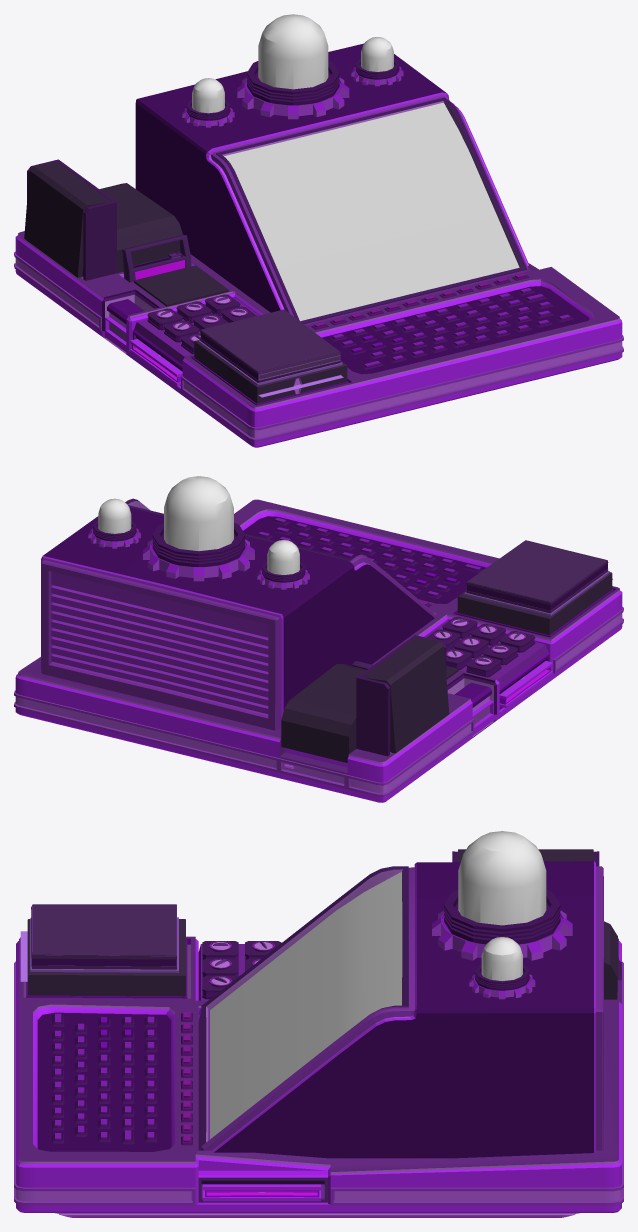
Rendered from mypc.fbx.
3 views of the same model, one above another, from view 1: azimuth 30°, elevation 25°; view 2: azimuth 150°, elevation 25°; view 3: azimuth 270°, elevation 25° (orthographic). The views are drawn at different scales.
Visible parts, largest first — view 1: vhs_0, vhs_cabine_door, disket_cabine, alternatif_conventer_door, vhs_0.010, vhs_right; view 2: vhs_0, vhs_cabine_door, disket_cabine, vhs_right; view 3: vhs_0, vhs_left, disket_cabine, vhs_cabine_door.
Part boxes in pixels (box(x1,y1,x2,y2)): vhs_0: box(14, 14, 623, 447); vhs_cabine_door: box(24, 161, 111, 277); disket_cabine: box(99, 183, 182, 273); alternatif_conventer_door: box(134, 265, 228, 306); vhs_0.010: box(122, 234, 191, 282); vhs_right: box(130, 339, 182, 385); vhs_0: box(14, 476, 623, 802); vhs_cabine_door: box(362, 637, 449, 753); disket_cabine: box(281, 663, 366, 762); vhs_right: box(499, 661, 552, 707); vhs_0: box(14, 831, 623, 1217); vhs_left: box(203, 1184, 320, 1201); disket_cabine: box(604, 921, 617, 999); vhs_cabine_door: box(457, 849, 594, 861).
Bounding box in the file's own units: 75.13 × 47.63 × 84.18.
